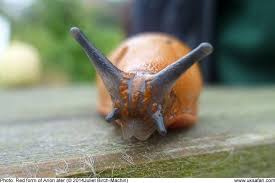slug: (71, 28, 205, 138)
